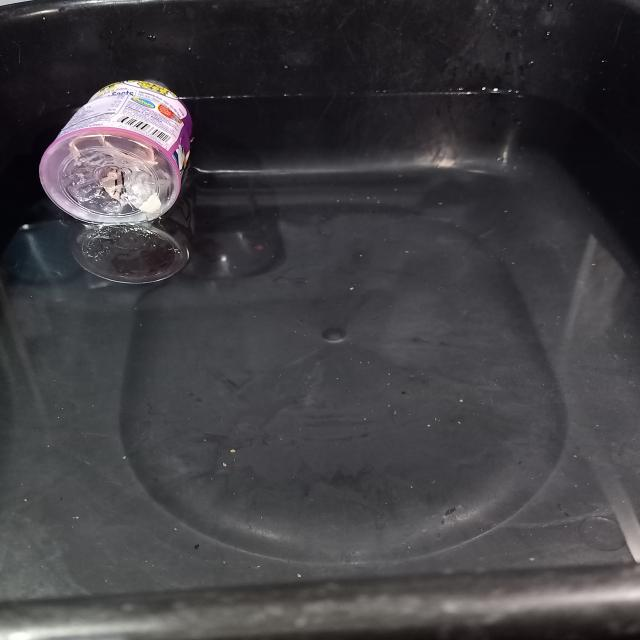Plastic Bottle: (39, 80, 192, 225)
